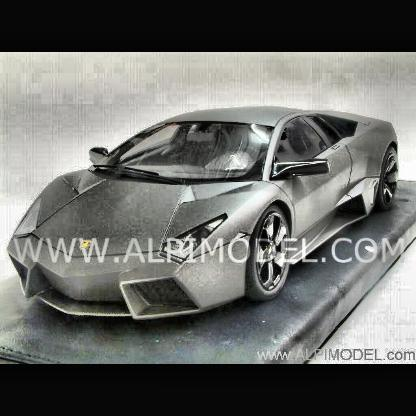Lamborghini Reventon Coupe 2008: (8, 109, 400, 323)
